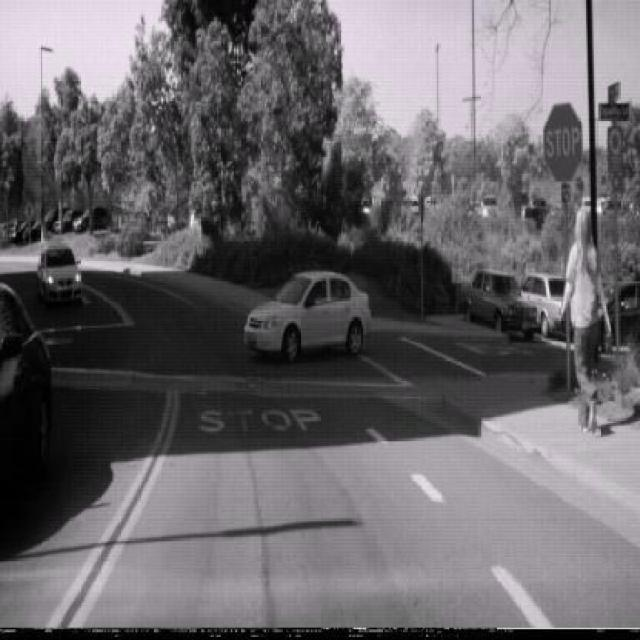pedestrianCrossing: (22, 198, 36, 226)
stop: (543, 100, 584, 182)
